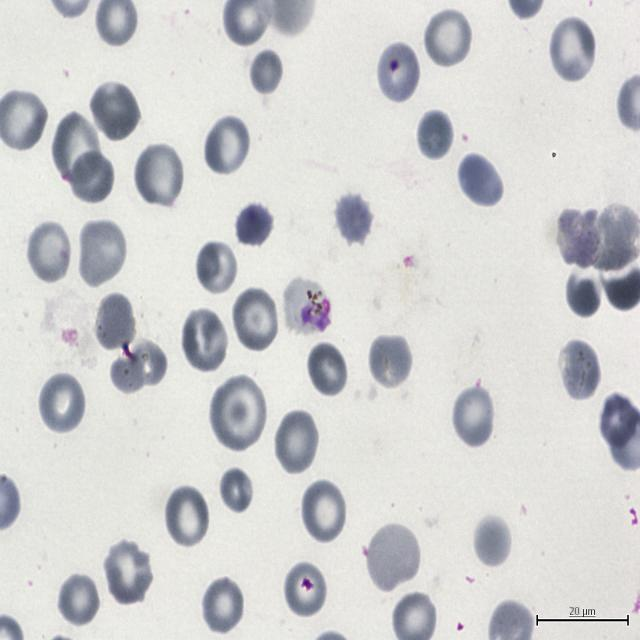red blood cell: (210, 374, 268, 452), (366, 523, 420, 592), (76, 217, 127, 287), (133, 141, 185, 209), (548, 15, 598, 85), (51, 113, 100, 184), (111, 335, 168, 396), (552, 208, 606, 271), (422, 5, 473, 70), (232, 285, 280, 354), (104, 540, 154, 606), (300, 479, 348, 546), (26, 218, 74, 285), (163, 484, 211, 550), (38, 370, 86, 436), (90, 80, 141, 142), (180, 309, 228, 374), (0, 90, 50, 151), (273, 409, 319, 475), (203, 114, 251, 177), (282, 558, 329, 621), (456, 150, 506, 209), (451, 383, 496, 448), (200, 574, 246, 636), (558, 338, 602, 402), (376, 43, 420, 105), (598, 389, 638, 457), (194, 238, 240, 297), (367, 331, 412, 391), (68, 149, 116, 205), (92, 291, 136, 350), (57, 571, 101, 628), (306, 341, 349, 398), (472, 513, 514, 570), (333, 191, 375, 247), (414, 107, 454, 162), (233, 201, 274, 250), (217, 465, 254, 516), (564, 273, 602, 322), (248, 48, 282, 92)
trophozoite: (283, 276, 333, 338)
